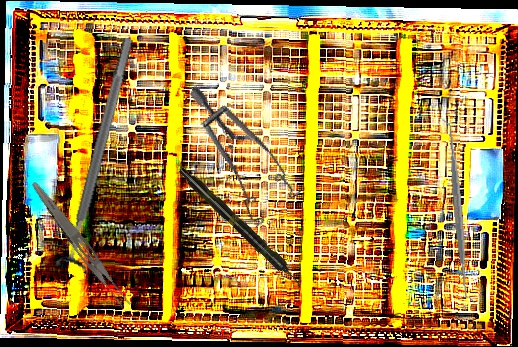Dressing Forceps: (25, 179, 134, 312)
Fixation Ring: (53, 34, 147, 275)
Handpiece: (176, 164, 306, 291)
Spatula Surgical: (439, 117, 478, 306)
Speculum: (149, 84, 323, 239)
